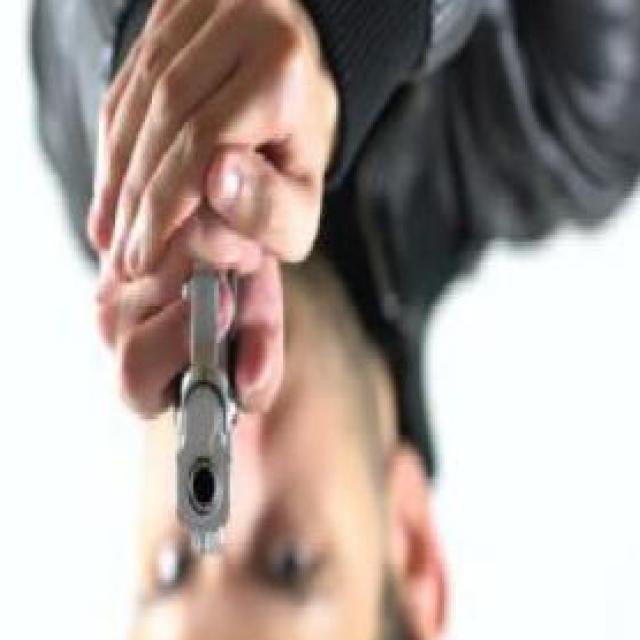pistol: (173, 260, 245, 571)
